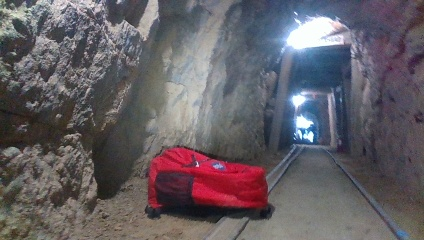backpack: (146, 145, 272, 220)
